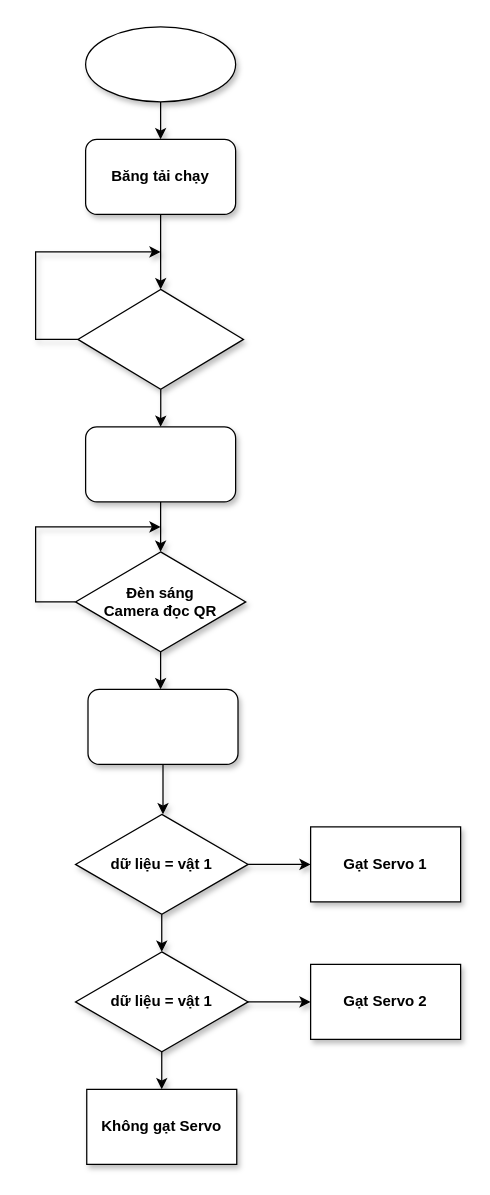
Some shapes in this 490 by 1195 pixel diagram are drawn without their labels. Each missing label, with the centre of its shape:
Băng tải dừng: the point at 161,466
Bắt đầu: the point at 161,66
Cảm biến phát hiện vật: the point at 161,340
Đèn tắt, băng tải chạy: the point at 164,728
